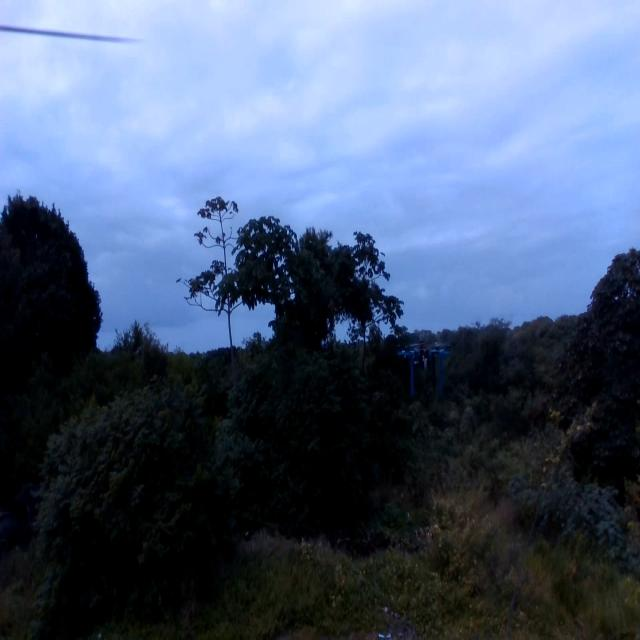-uav-: (391, 329, 460, 400)
